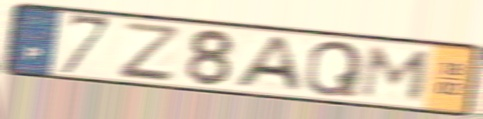7: (58, 12, 115, 76)
8: (184, 27, 238, 88)
A: (229, 35, 307, 95)
M: (356, 44, 436, 103)
Q: (301, 39, 366, 98)
Z: (116, 19, 179, 81)
